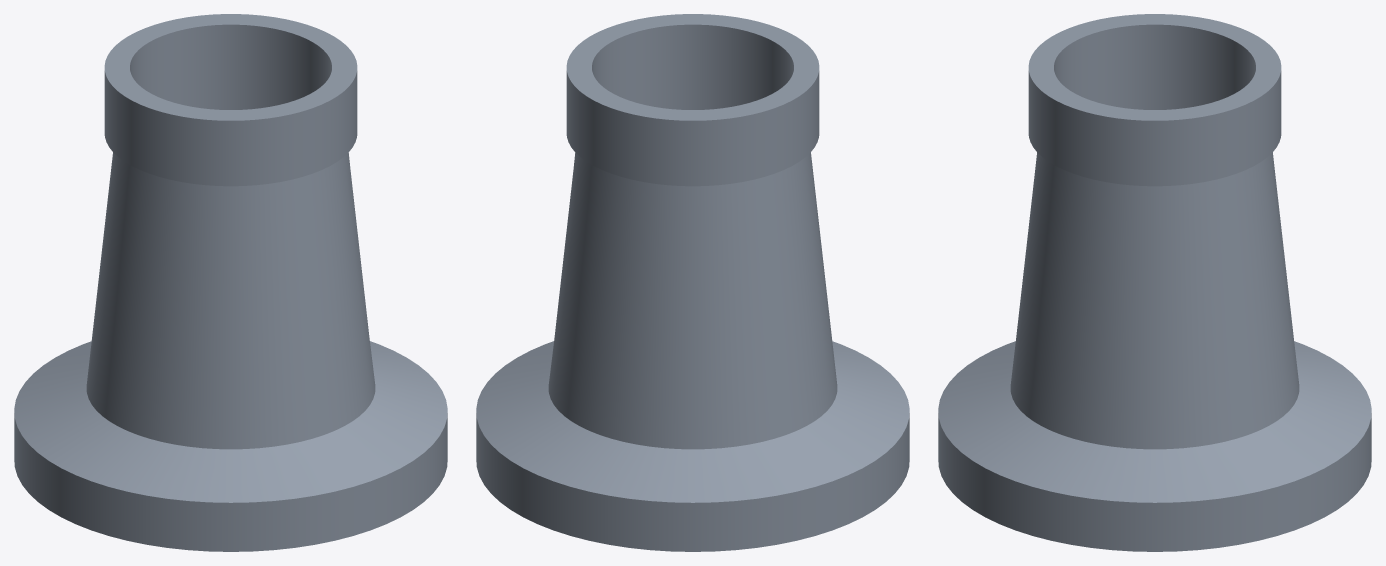
Rendered from step_01.glb.
3 renders of one model, left to right at view 1: azimuth 30°, elevation 25°; view 2: azimuth 150°, elevation 25°; view 3: azimuth 270°, elevation 25°, orthographic.
Visible parts, largest first — view 1: part__body; view 2: part__body; view 3: part__body.
Boxes of the visible parts, x1=… form: part__body: x1=14, y1=14, x2=447, y2=551; part__body: x1=476, y1=14, x2=909, y2=551; part__body: x1=938, y1=14, x2=1371, y2=551.
Bounding box in the file's own units: 120 × 120 × 120.
